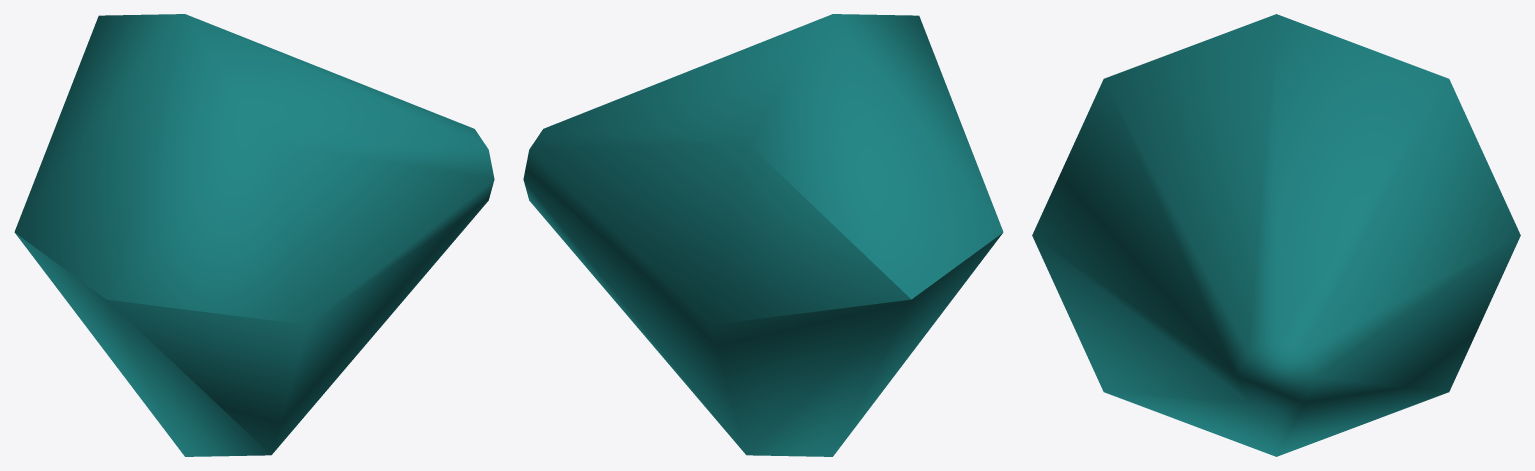
Rendered from barbell_collider.fbx.
3 renders of one model, left to right at view 1: azimuth 30°, elevation 25°; view 2: azimuth 150°, elevation 25°; view 3: azimuth 270°, elevation 25°, orthographic.
Visible parts, largest first — view 1: barbell_collider; view 2: barbell_collider; view 3: barbell_collider.
Part boxes in pixels (bbox=[...]): barbell_collider: bbox=[14, 14, 494, 456]; barbell_collider: bbox=[523, 14, 1003, 456]; barbell_collider: bbox=[1032, 14, 1520, 456].
Size of the model in its own units: 25.33 by 25.88 by 25.88.
